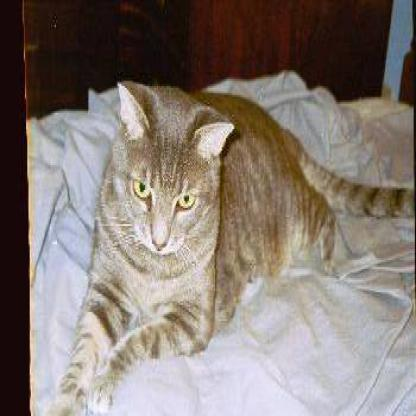cat: (68, 77, 378, 364)
